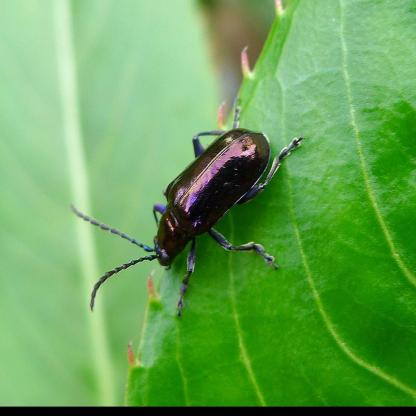beetle: (68, 90, 321, 321)
